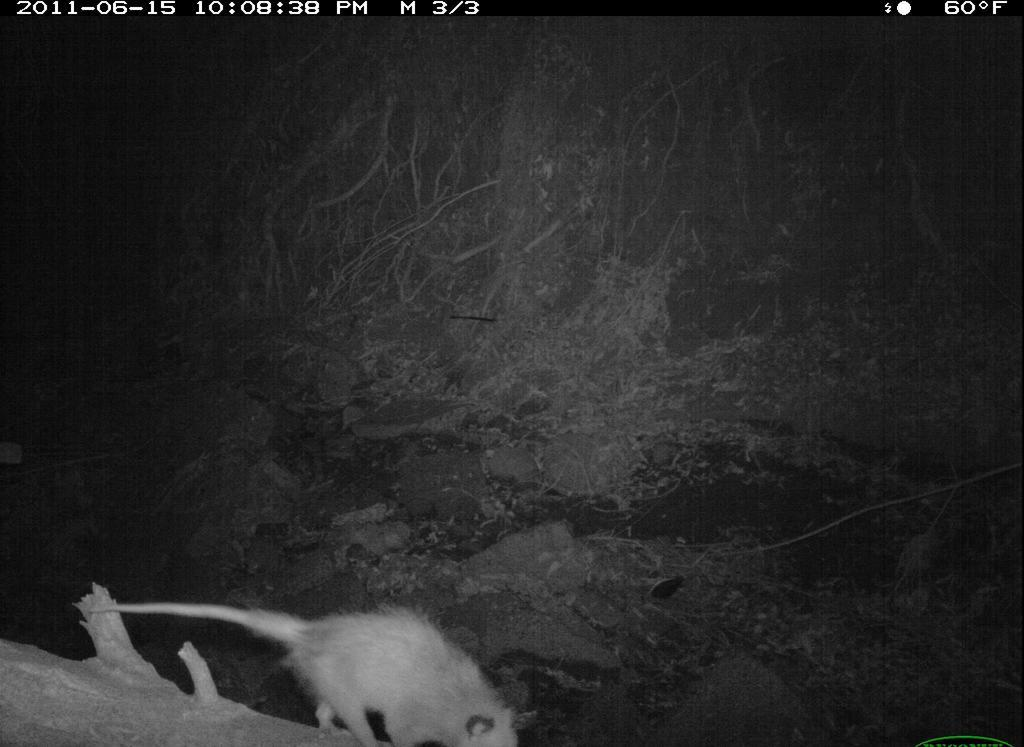opossum: (81, 582, 521, 745)
